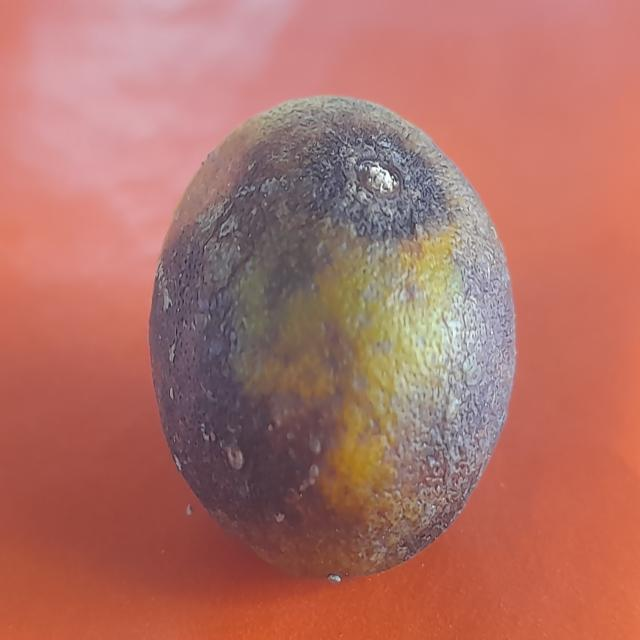black spot: (142, 73, 532, 606)
